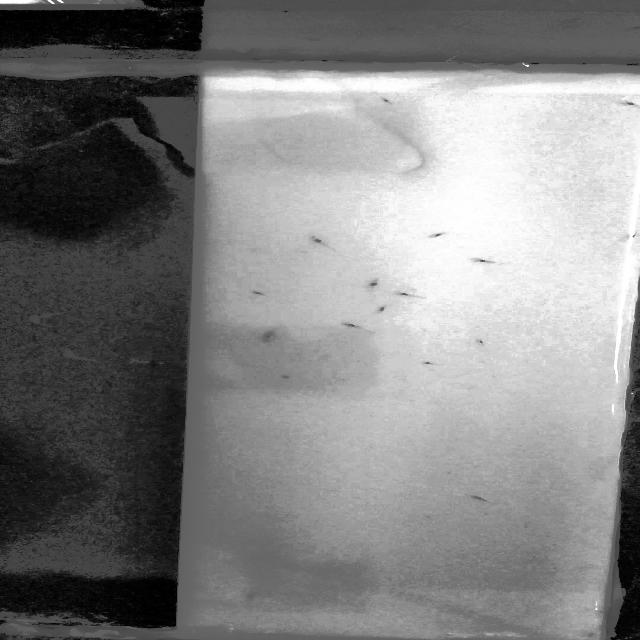shrimp: (468, 250, 510, 270), (396, 287, 438, 302), (408, 353, 450, 368), (337, 315, 369, 330), (237, 592, 277, 602), (250, 287, 278, 301), (372, 302, 400, 316), (608, 96, 638, 109), (463, 490, 484, 508), (467, 336, 494, 350), (252, 332, 283, 344), (302, 234, 330, 246), (271, 372, 312, 380), (360, 279, 383, 289), (432, 230, 452, 240)
